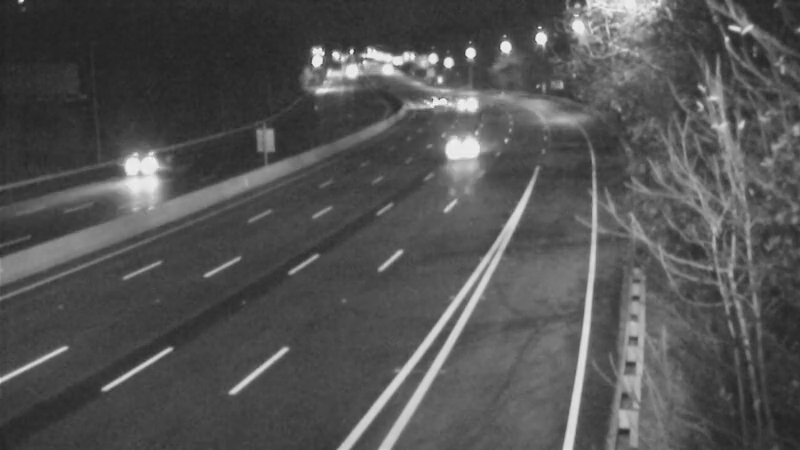vehicle: (107, 119, 187, 199), (359, 45, 409, 95), (413, 74, 463, 124), (439, 69, 489, 119), (440, 122, 490, 172)
